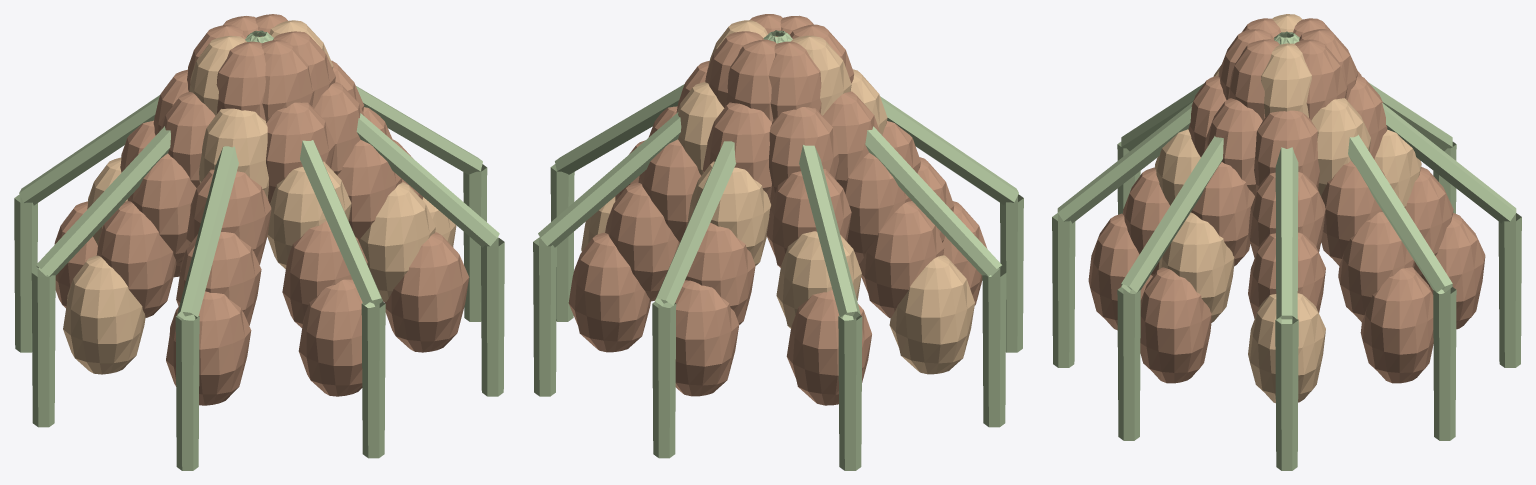
Rendered from dates.glb.
3 views of the same model, side by side, from view 1: azimuth 30°, elevation 25°; view 2: azimuth 150°, elevation 25°; view 3: azimuth 270°, elevation 25° (orthographic). The views are drawn at different scales.
Visible parts, largest first — view 1: dates; view 2: dates; view 3: dates.
Part boxes in pixels (<box>): dates: <box>14,14,504,470</box>; dates: <box>533,14,1023,470</box>; dates: <box>1052,14,1521,470</box>.
Size of the model in its own units: 0.9998 by 0.725 by 0.926.
